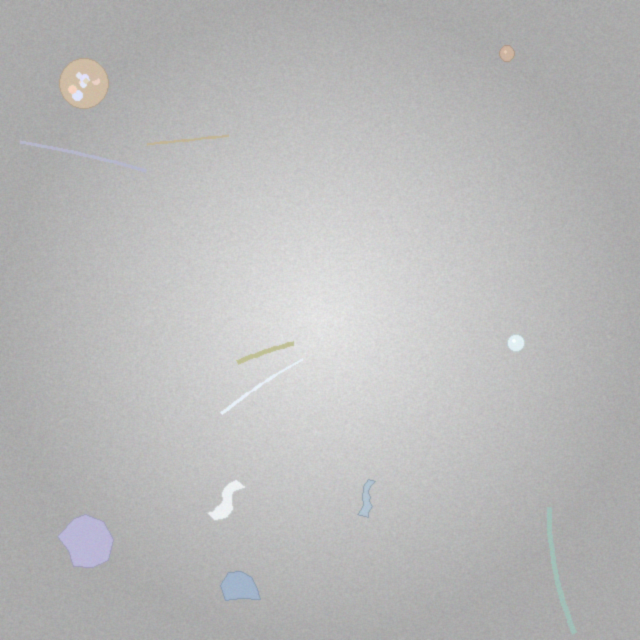fiber: (218, 355, 306, 418), (16, 138, 150, 175), (544, 502, 580, 639), (233, 338, 299, 367), (144, 132, 232, 148)
film: (206, 479, 246, 520), (358, 480, 375, 518)
foam: (59, 59, 109, 108)
fragment: (58, 515, 113, 568), (220, 571, 260, 601)
pellet: (507, 334, 524, 351), (499, 46, 515, 61)
